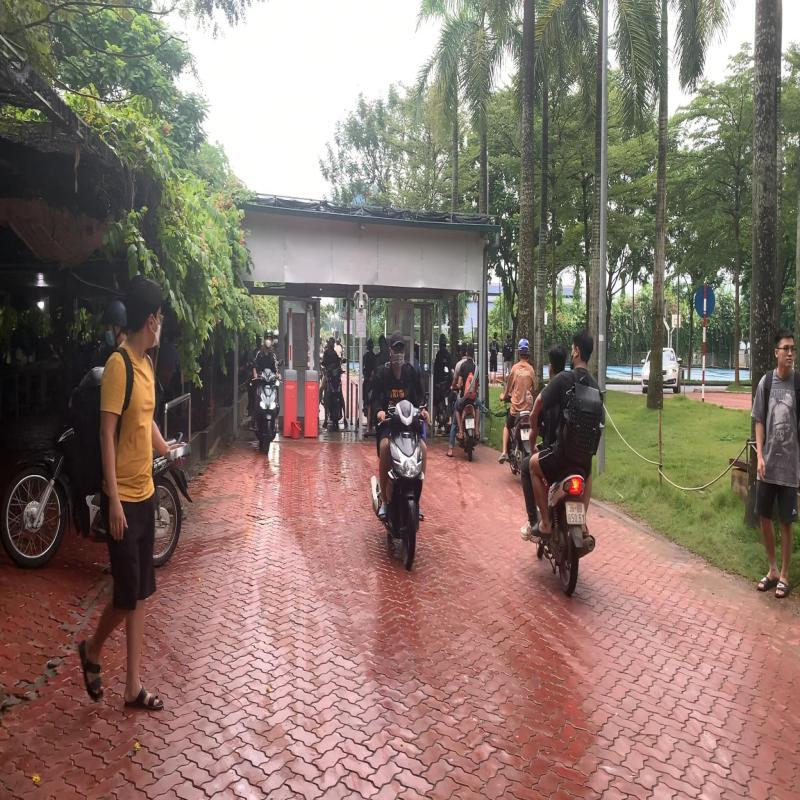nohelmet: (570, 326, 594, 368), (546, 341, 568, 377)
